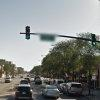Traffic light: (14, 18, 39, 44)
